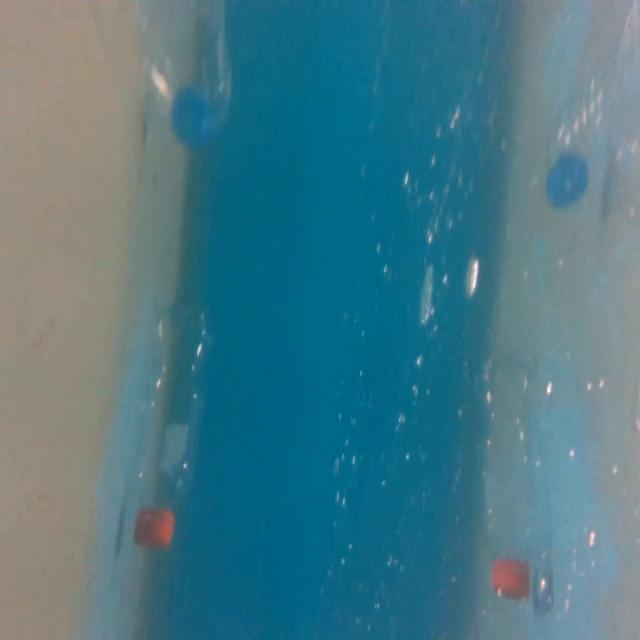plastic bottle: (128, 292, 218, 554), (128, 0, 241, 152)
